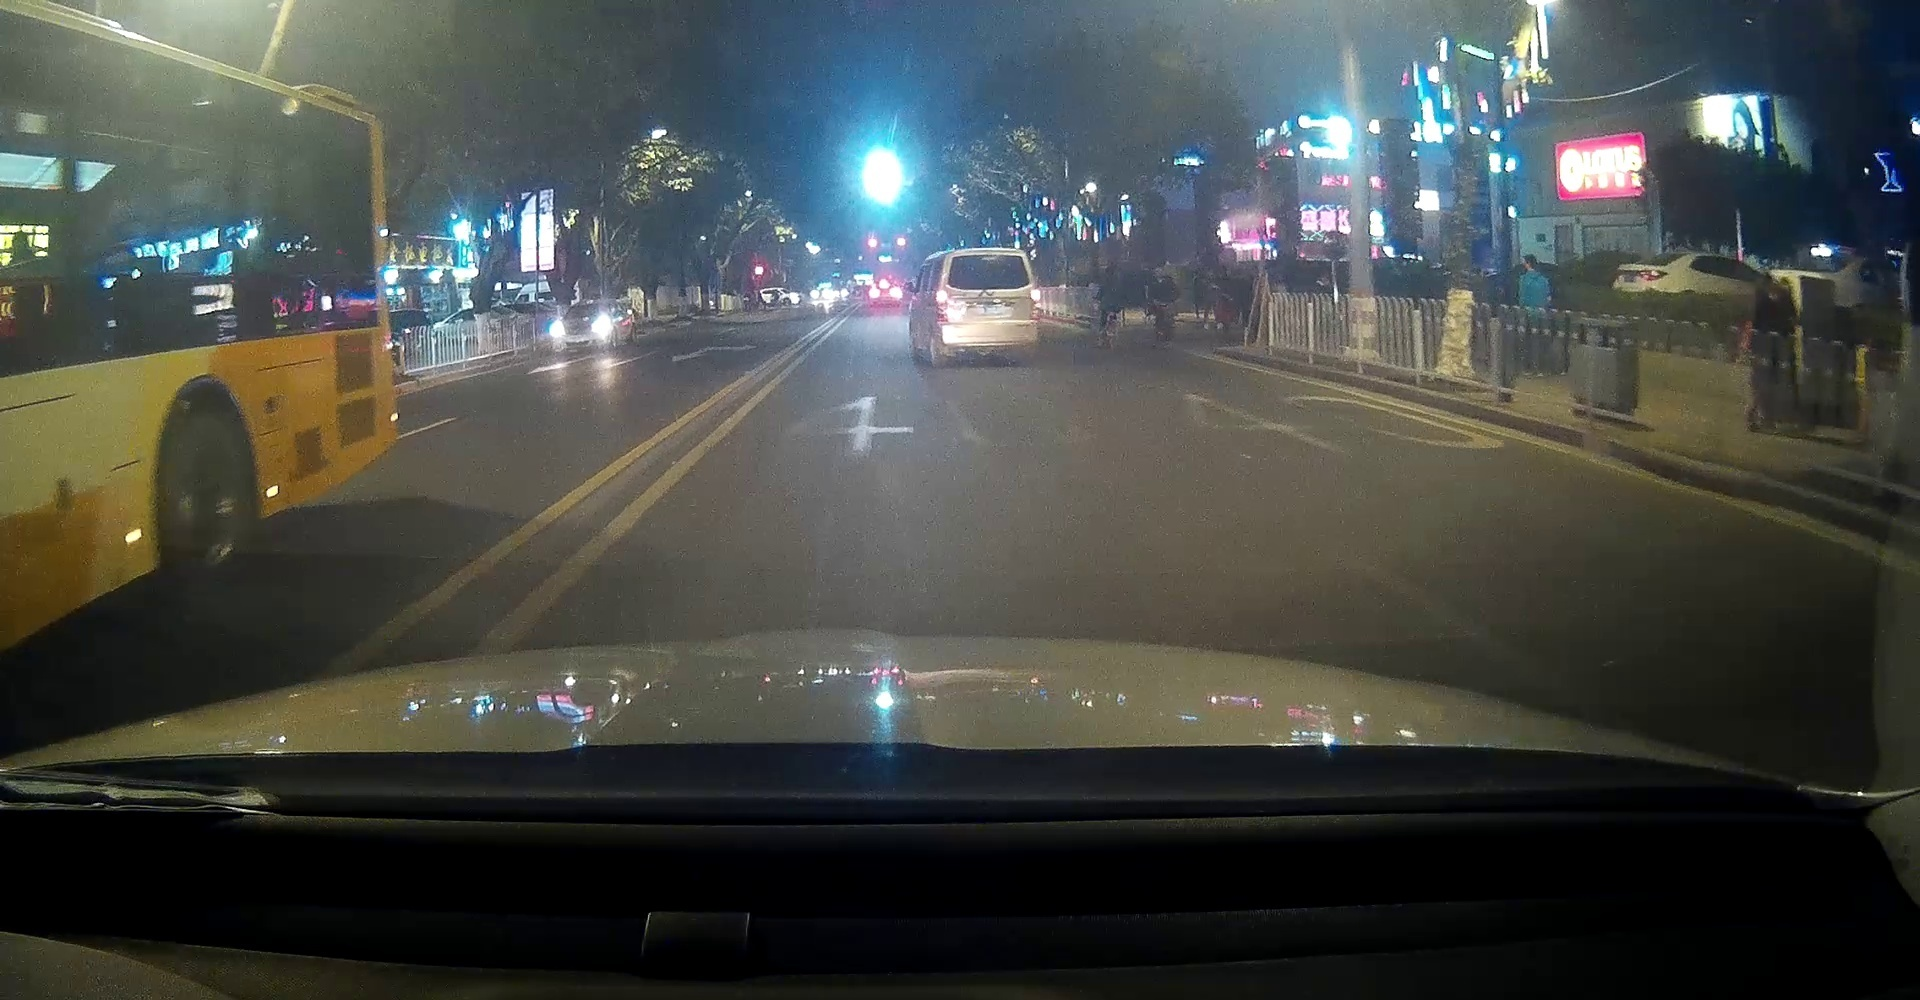L_light: (935, 291, 950, 324)
R_light: (1029, 289, 1041, 319)
T_light: (980, 255, 999, 260)
night-no: (935, 247, 1043, 365)
